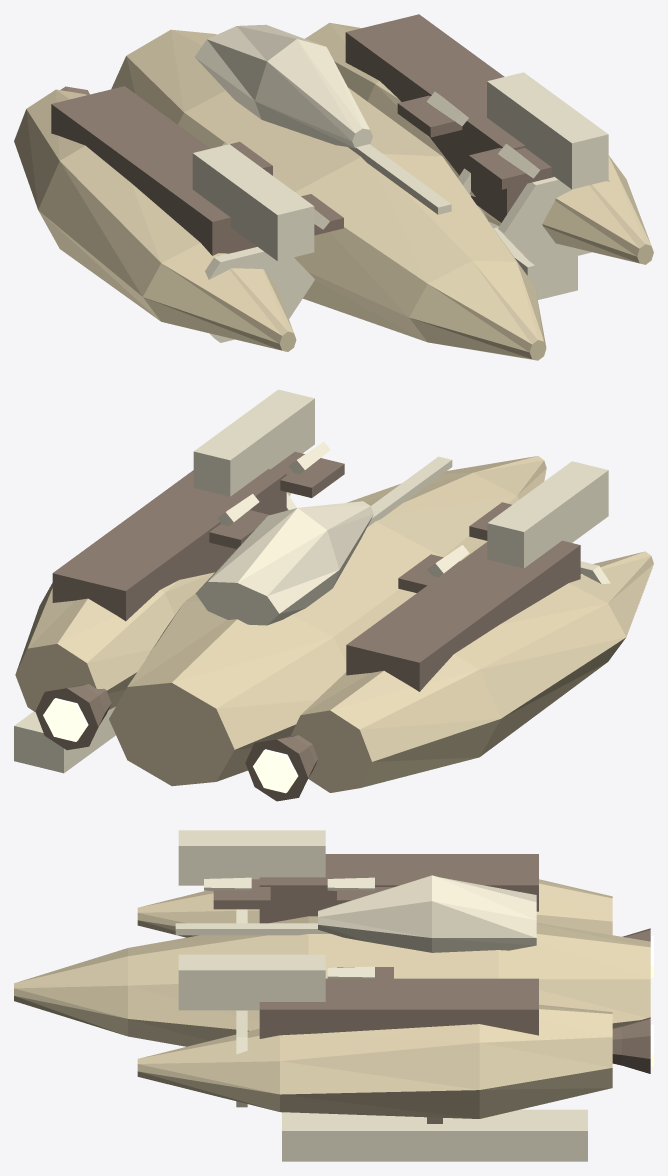
The picture shows the model from 3 angles, top to bottom: view 1: azimuth 30°, elevation 25°; view 2: azimuth 150°, elevation 25°; view 3: azimuth 270°, elevation 25°; orthographic projection. The views are drawn at different scales.
Size of the model in its own units: 13.17 by 6.13 by 17.41.
